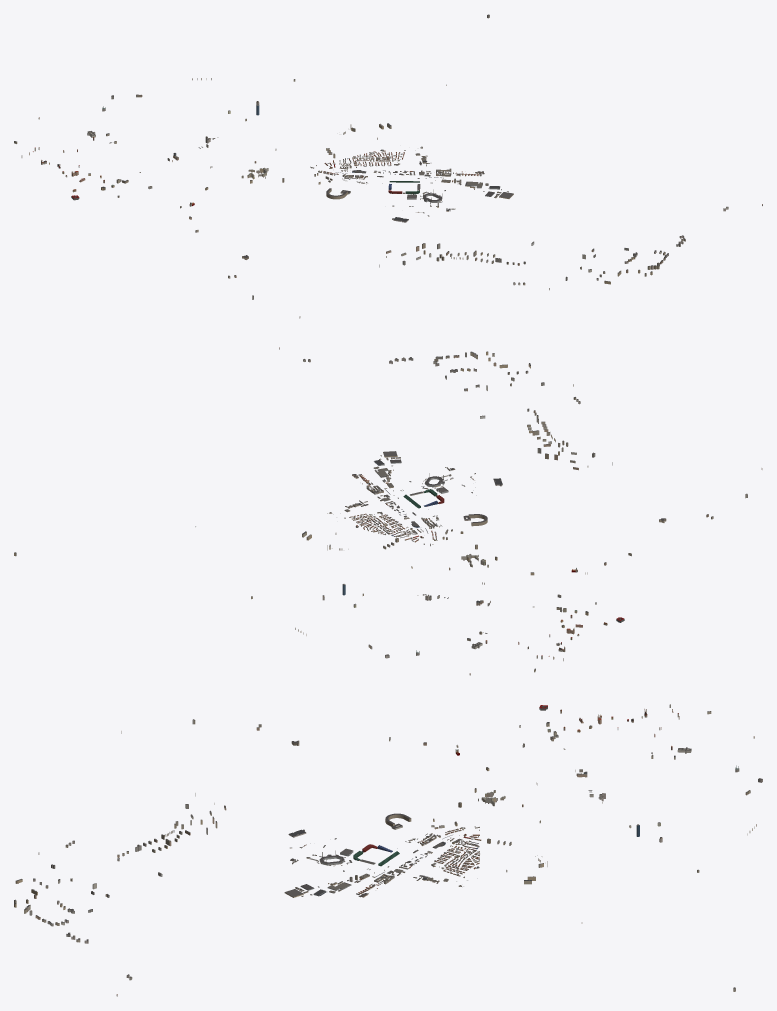
File: scenery.glb
3 views of the same model, one above another, from view 1: azimuth 30°, elevation 25°; view 2: azimuth 150°, elevation 25°; view 3: azimuth 270°, elevation 25° (orthographic). The views are drawn at different scales.
Size of the model in its own units: 7300 by 150 by 7919.
